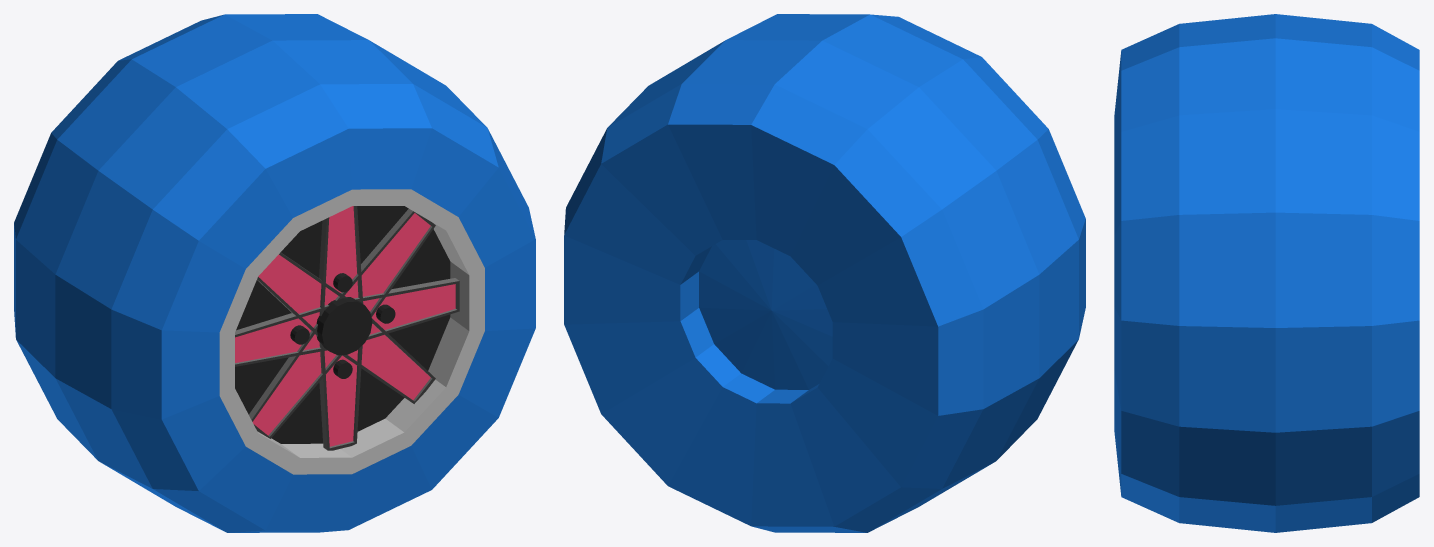
Rendered from wheel42.fbx.
3 views of the same model, side by side, from view 1: azimuth 30°, elevation 25°; view 2: azimuth 150°, elevation 25°; view 3: azimuth 270°, elevation 25° (orthographic).
Parts seen in each view (by area): view 1: lanot_wheel41_L; view 2: lanot_wheel41_L; view 3: lanot_wheel41_L.
Boxes of the visible parts, x1,y1,x2,y2 form: lanot_wheel41_L: (14, 14, 535, 532); lanot_wheel41_L: (564, 14, 1085, 532); lanot_wheel41_L: (1114, 14, 1419, 532).
Size of the model in its own units: 152 by 156 by 91.65.
